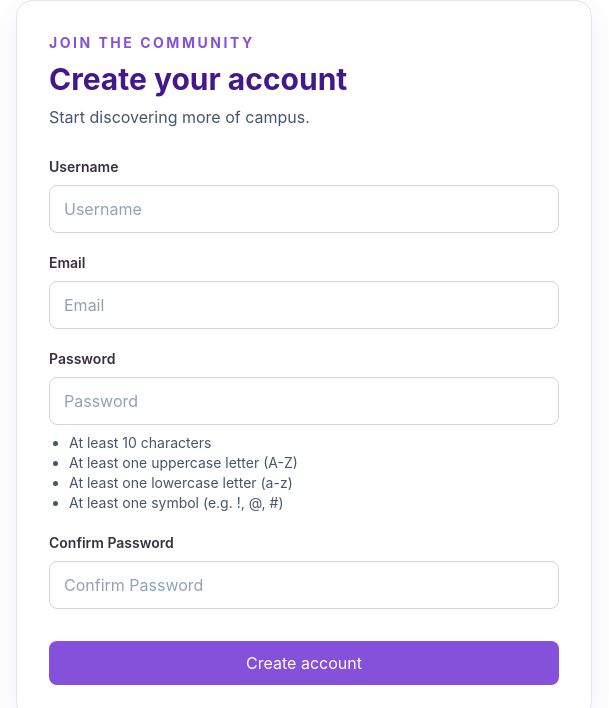
Scenario: rejects invalid password Short! with a reason
Type "Alice" into the field labelled "Username" at {"x": 304, "y": 209}, box top-left (49, 185), bottom-right (559, 233)
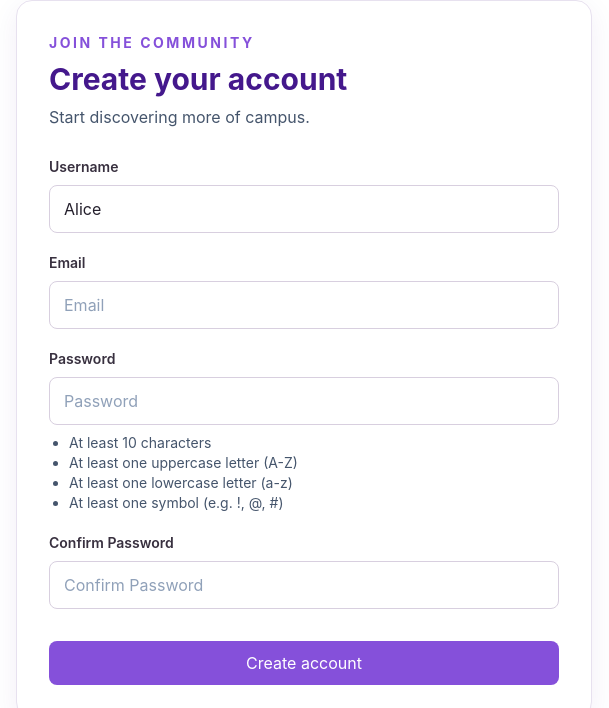
Type "alice@example.com" into the field labelled "Email" at {"x": 304, "y": 305}, box top-left (49, 281), bottom-right (559, 329)
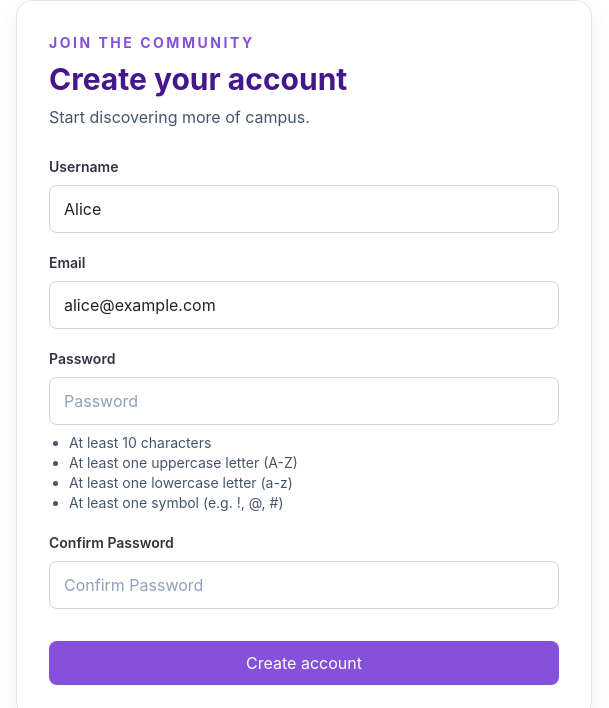
Type "Short!" into the password field labelled "Password" at {"x": 304, "y": 401}, box top-left (49, 377), bottom-right (559, 425)
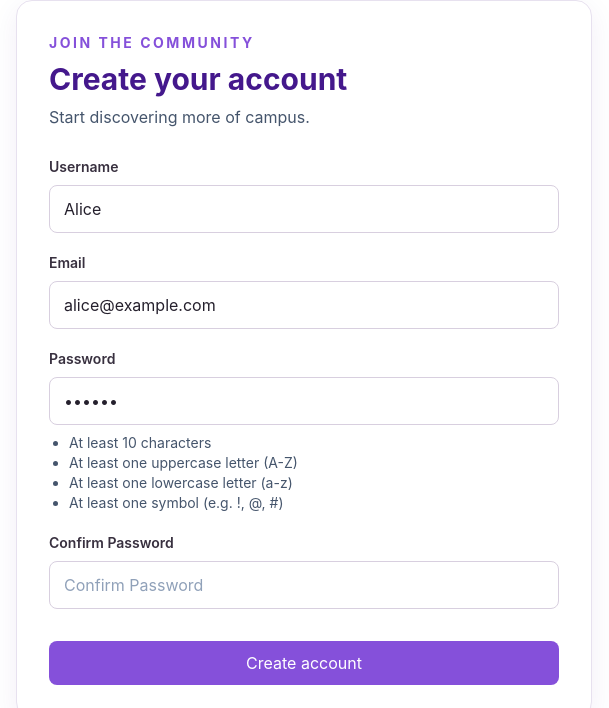
Type "Short!" into the password field labelled "Confirm Password" at {"x": 304, "y": 585}, box top-left (49, 561), bottom-right (559, 609)
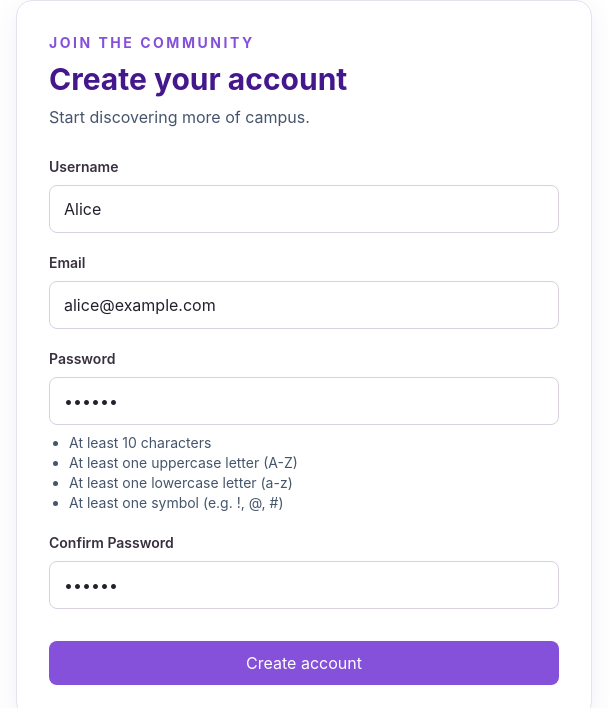
Click the button "Create account" at {"x": 304, "y": 663}, box top-left (49, 641), bottom-right (559, 685)
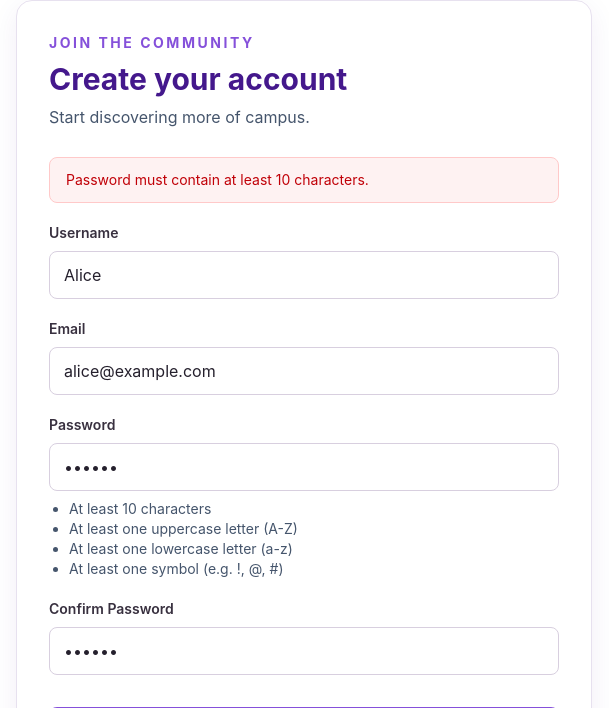
Expected: the message shows "at least 10 characters", top-left (66, 171), bottom-right (369, 188)
